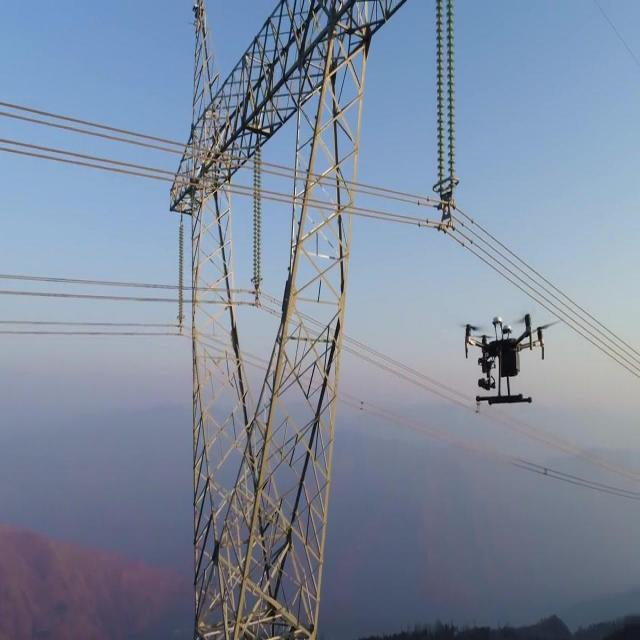UAV: (461, 313, 561, 413)
